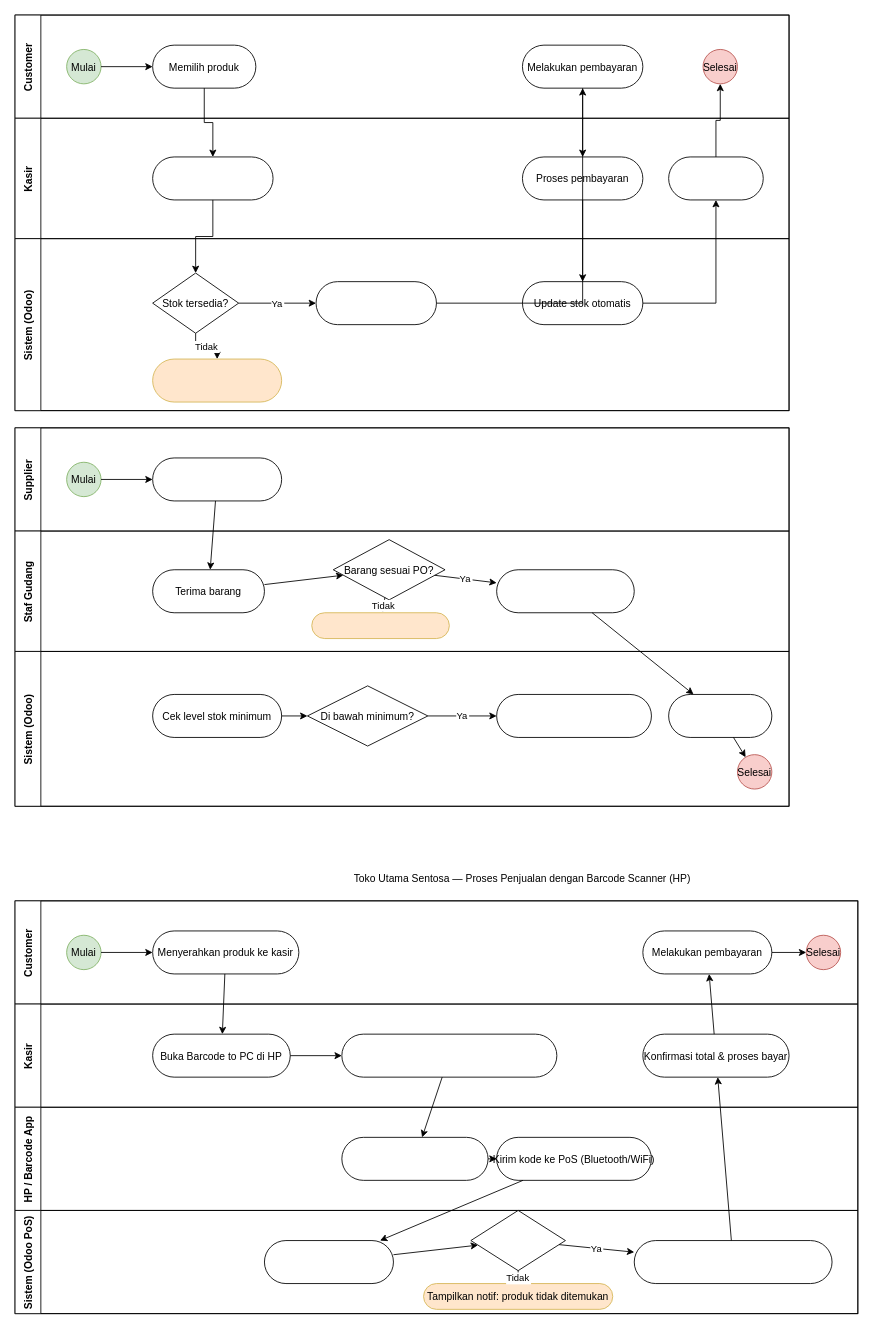
Some shapes in this 873 by 1329 pixel diagram are drawn without their labels. The shapes that lost their labels are listed below. From the top down, each one's box as (x1, y1, x2, y2) in pixels, then its label:
(152, 156, 273, 200): Input produk ke PoS
(668, 156, 763, 200): Cetak struk
(14, 14, 789, 411): Toko Utama Sentosa — Proses Penjualan
(315, 281, 436, 325): Hitung total harga
(152, 358, 282, 402): Tampilkan notif stok habis
(152, 457, 282, 501): Kirim barang & invoice
(496, 569, 634, 613): Input penerimaan barang
(311, 612, 449, 639): Retur ke supplier
(496, 694, 651, 737): Buat Purchase Order otomatis
(668, 694, 772, 737): Update stok di sistem
(341, 1033, 557, 1077): Arahkan kamera HP ke barcode produk
(341, 1136, 488, 1180): Capture barcode via kamera
(470, 1210, 565, 1271): Produk ditemukan?
(264, 1240, 393, 1284): Terima kode barcode
(633, 1240, 832, 1284): Tambahkan produk ke keranjang PoS
